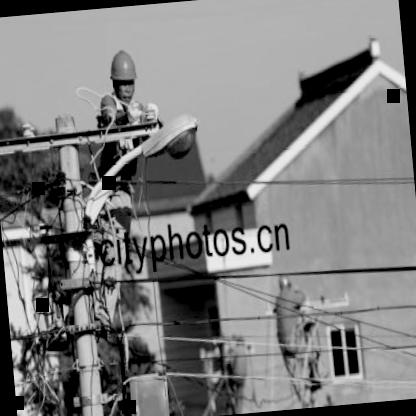helmet: (106, 44, 142, 105), (275, 266, 294, 298)
